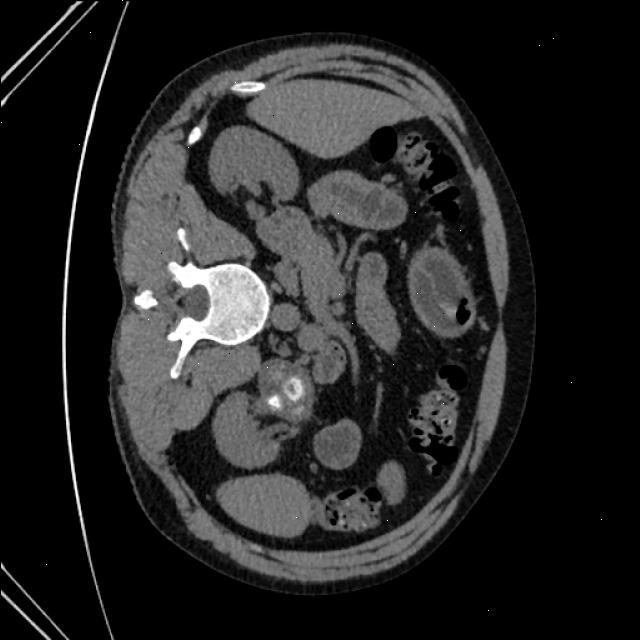kidneystone: (283, 381, 302, 401), (267, 400, 279, 411)
